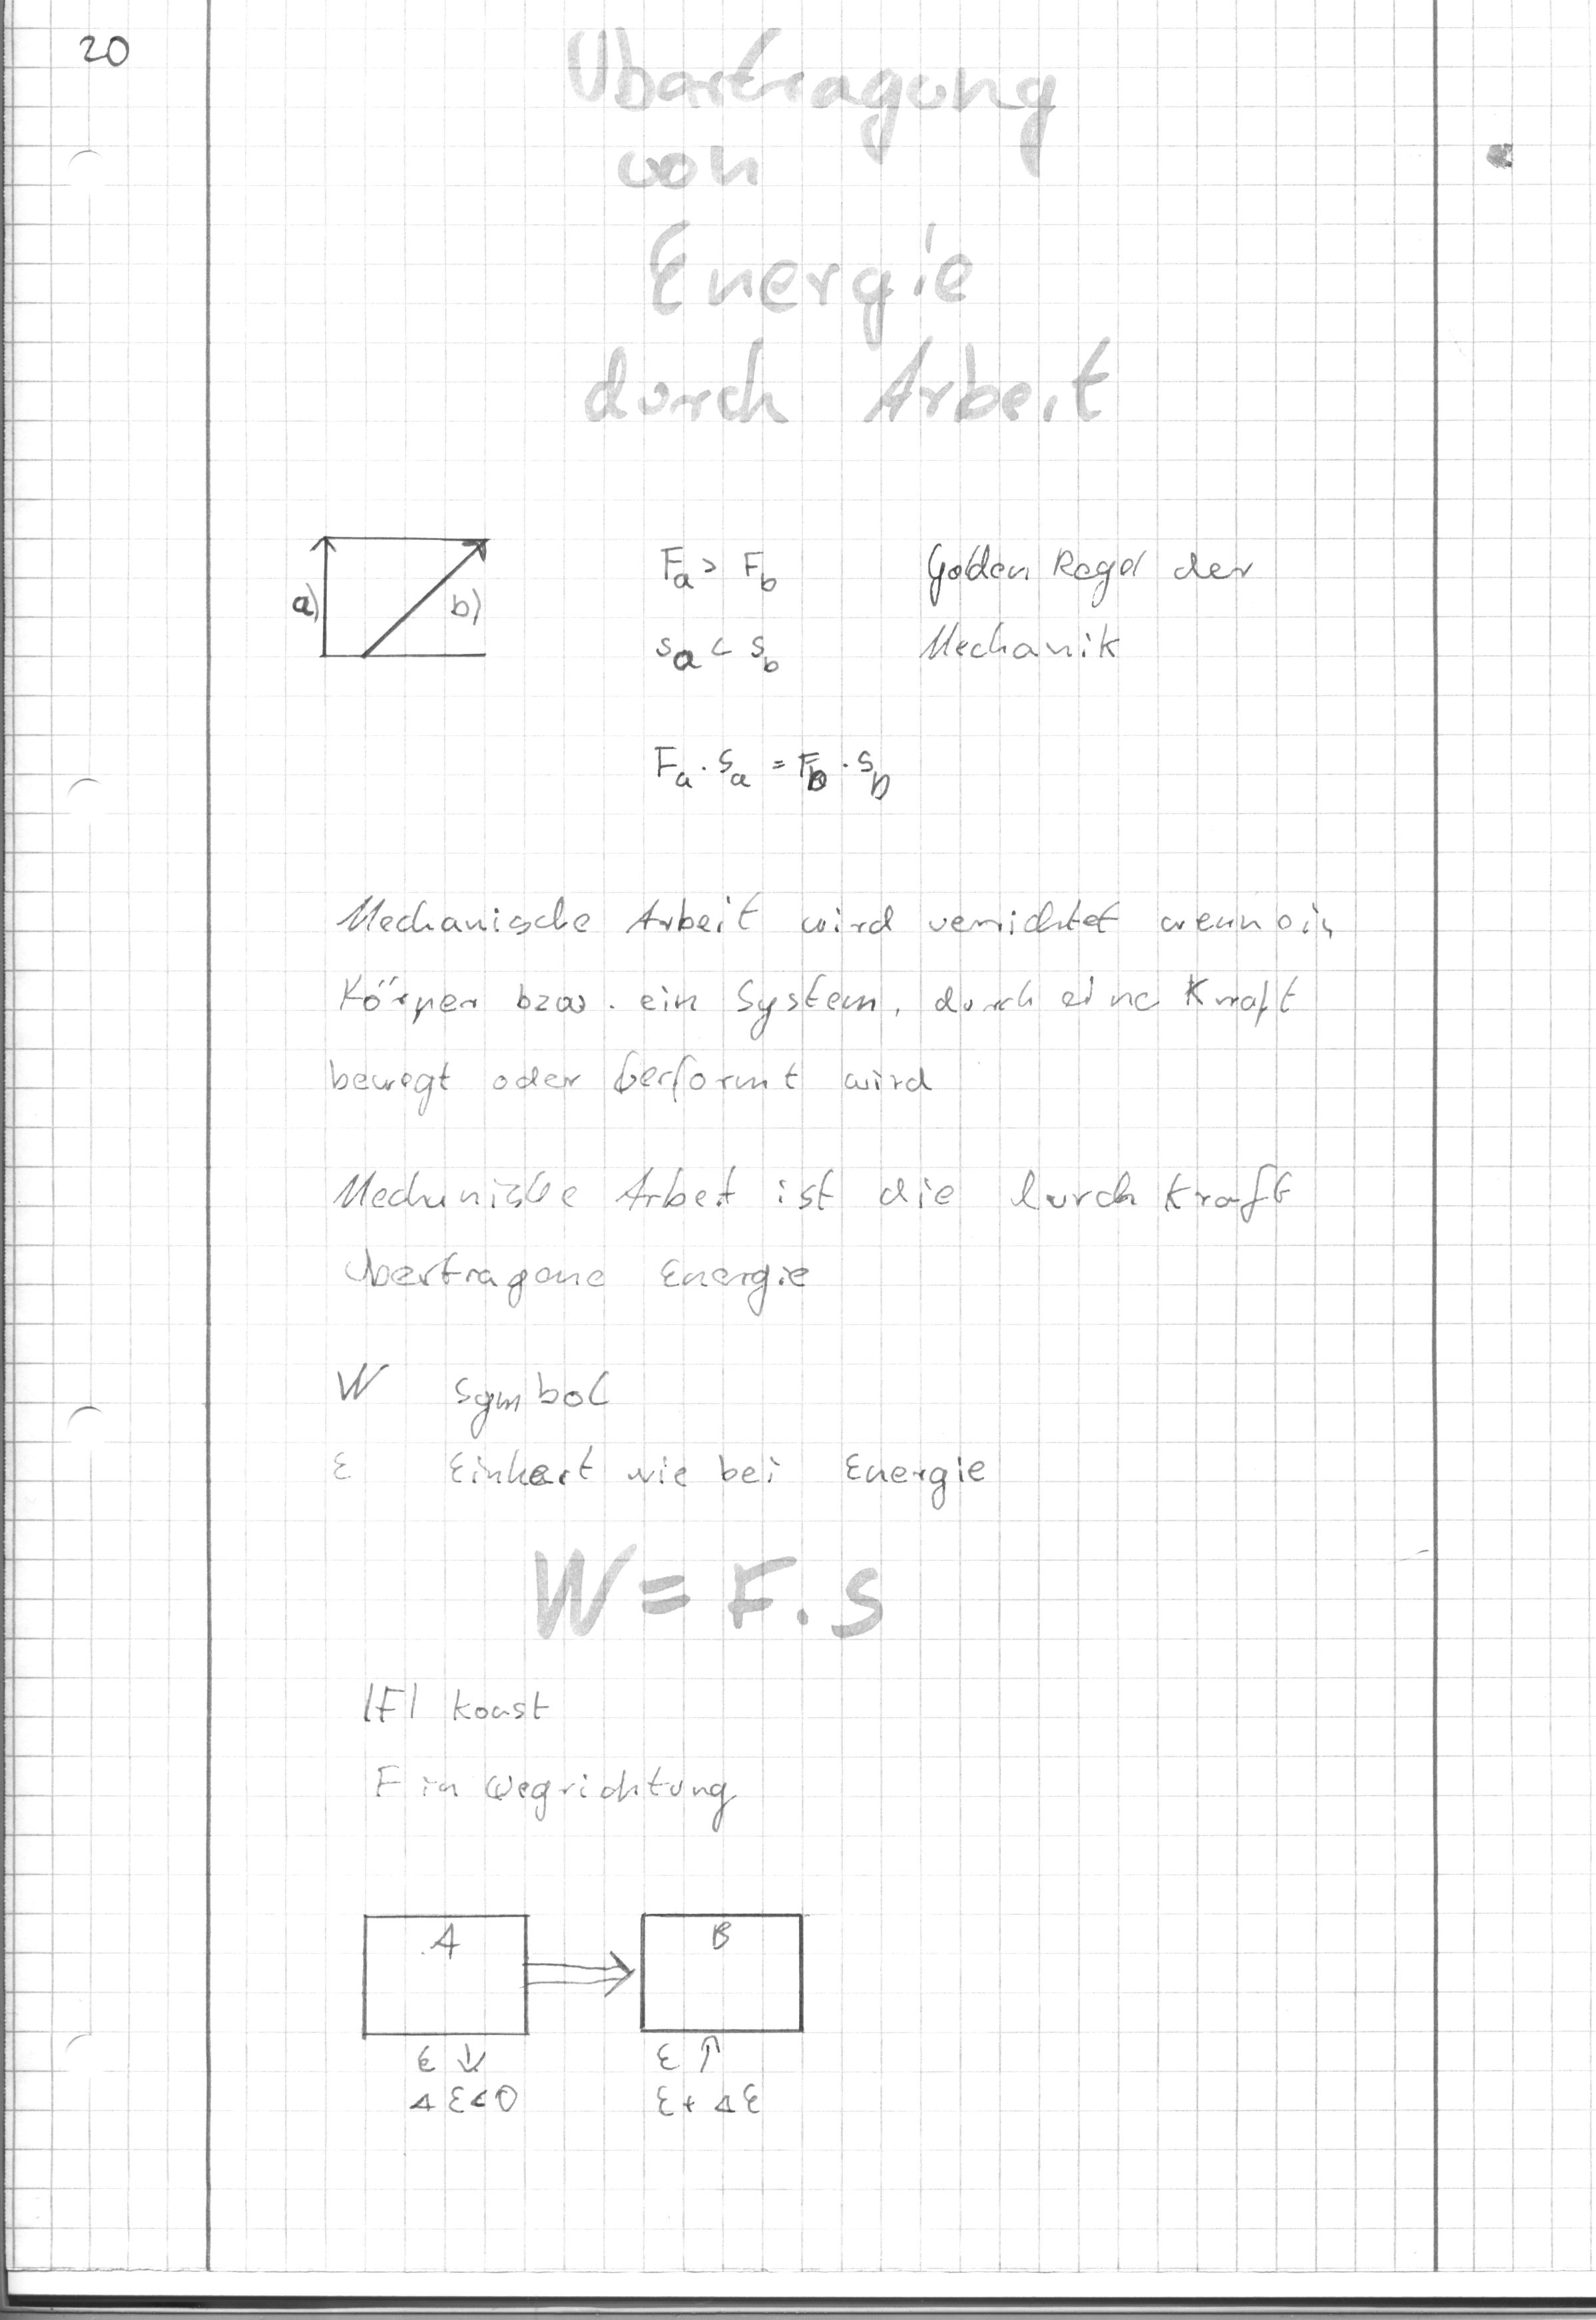word: (330, 961, 1314, 1043), (326, 1157, 1302, 1231), (328, 886, 1347, 950), (323, 1442, 991, 1520), (326, 1047, 943, 1130), (324, 1239, 823, 1321), (362, 1755, 748, 1845), (918, 527, 1257, 610), (324, 1349, 619, 1443), (645, 730, 896, 811), (352, 1666, 565, 1748), (633, 2028, 775, 2141), (390, 2030, 533, 2140), (910, 614, 1133, 679), (644, 620, 796, 687), (649, 539, 788, 603)
